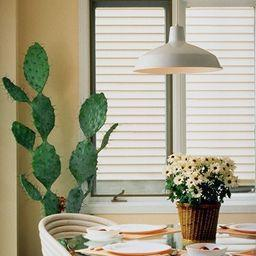Ventana: (87, 3, 255, 194)
